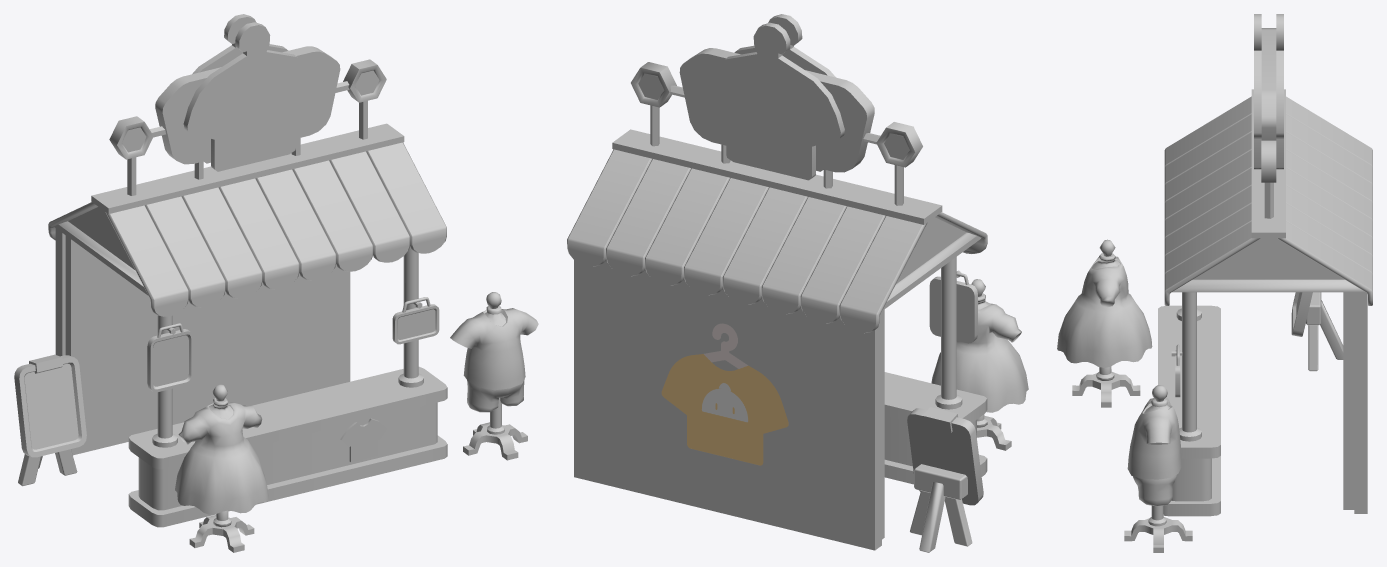
File: ClothStore.fbx
The picture shows the model from 3 angles, left to right: view 1: azimuth 30°, elevation 25°; view 2: azimuth 150°, elevation 25°; view 3: azimuth 270°, elevation 25°; orthographic projection. The views are drawn at different scales.
Parts seen in each view (by area): view 1: ClothStore, ClothStore_Cloth01, ClothStore_Cloth02, ClothStore_Lipai; view 2: ClothStore, ClothStore_Icon, ClothStore_Lipai, ClothStore_Cloth01; view 3: ClothStore, ClothStore_Cloth01, ClothStore_Cloth02, ClothStore_Lipai.
Boxes of the visible parts, x1,y1,x2,y2 form: ClothStore: (48, 14, 447, 527); ClothStore_Cloth01: (175, 384, 268, 552); ClothStore_Cloth02: (450, 292, 538, 460); ClothStore_Lipai: (14, 354, 86, 486); ClothStore: (567, 14, 987, 550); ClothStore_Icon: (661, 323, 788, 465); ClothStore_Lipai: (907, 407, 983, 552); ClothStore_Cloth01: (931, 279, 1028, 450); ClothStore: (1158, 14, 1372, 516); ClothStore_Cloth01: (1057, 239, 1152, 407); ClothStore_Cloth02: (1124, 385, 1192, 552); ClothStore_Lipai: (1291, 292, 1343, 371).
Size of the model in its own units: 500 by 468 by 312.
